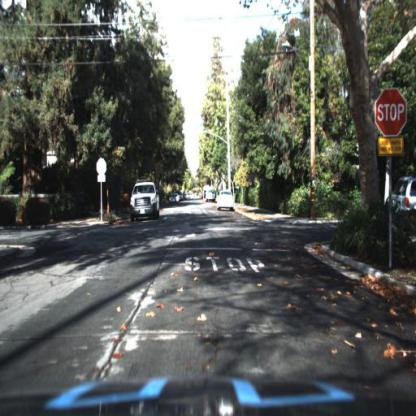car: (128, 177, 163, 225), (394, 173, 416, 226), (216, 189, 235, 215), (217, 189, 233, 211)
